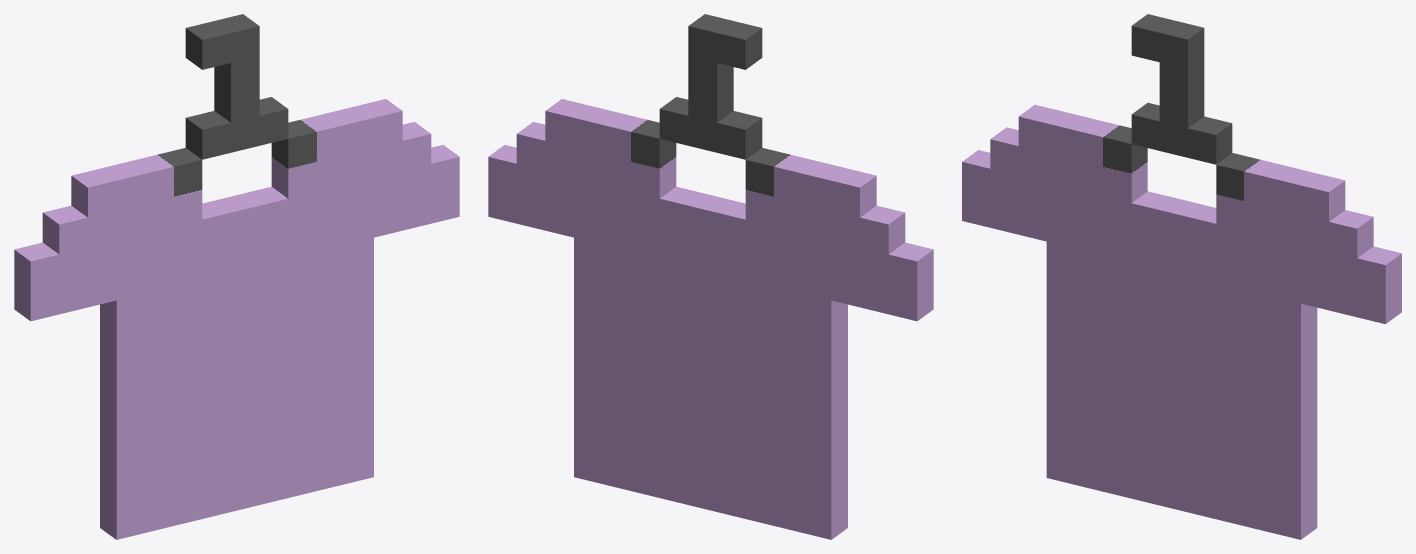
File: koszulka1.dae
The picture shows the model from 3 angles, left to right: view 1: azimuth 30°, elevation 25°; view 2: azimuth 150°, elevation 25°; view 3: azimuth 330°, elevation 25°; orthographic projection.
Parts seen in each view (by area): view 1: koszulka2; view 2: koszulka2; view 3: koszulka2.
Boxes of the visible parts, x1,y1,x2,y2 form: koszulka2: [14, 14, 459, 539]; koszulka2: [488, 14, 933, 539]; koszulka2: [962, 14, 1401, 539].
Bounding box in the file's own units: 15 × 16 × 1.
